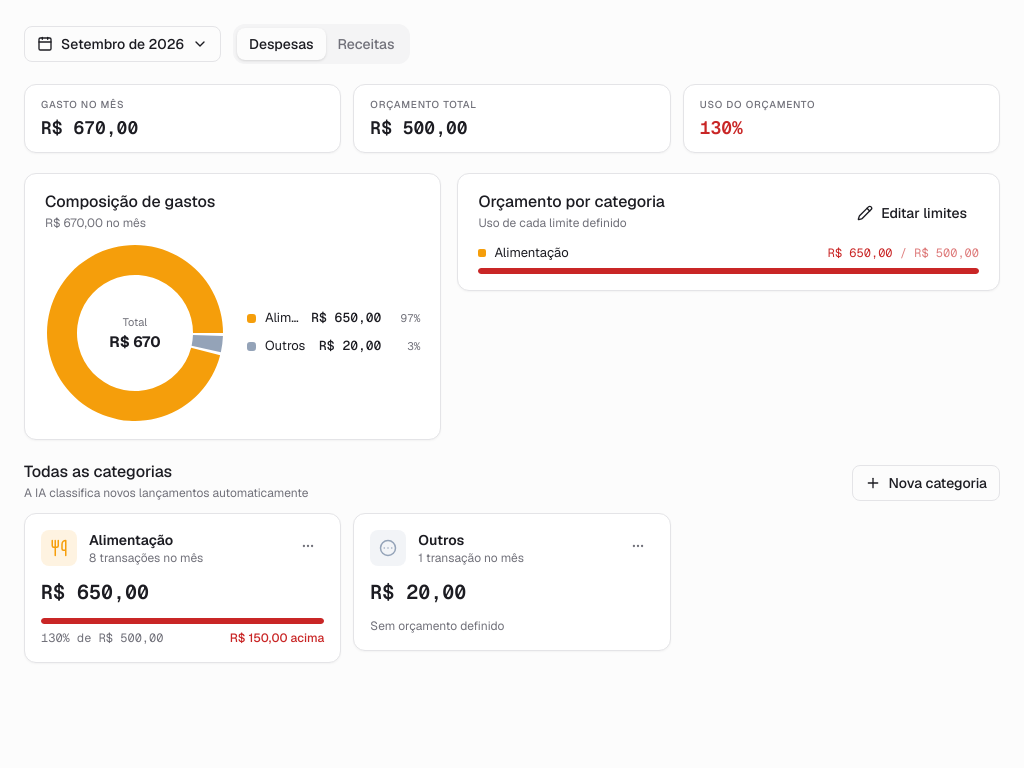
Scenario: CategoriesScreen › does not offer deleting the fallback category
Click the button named "Ações da categoria Outros": (638, 546) [622, 530, 654, 562]
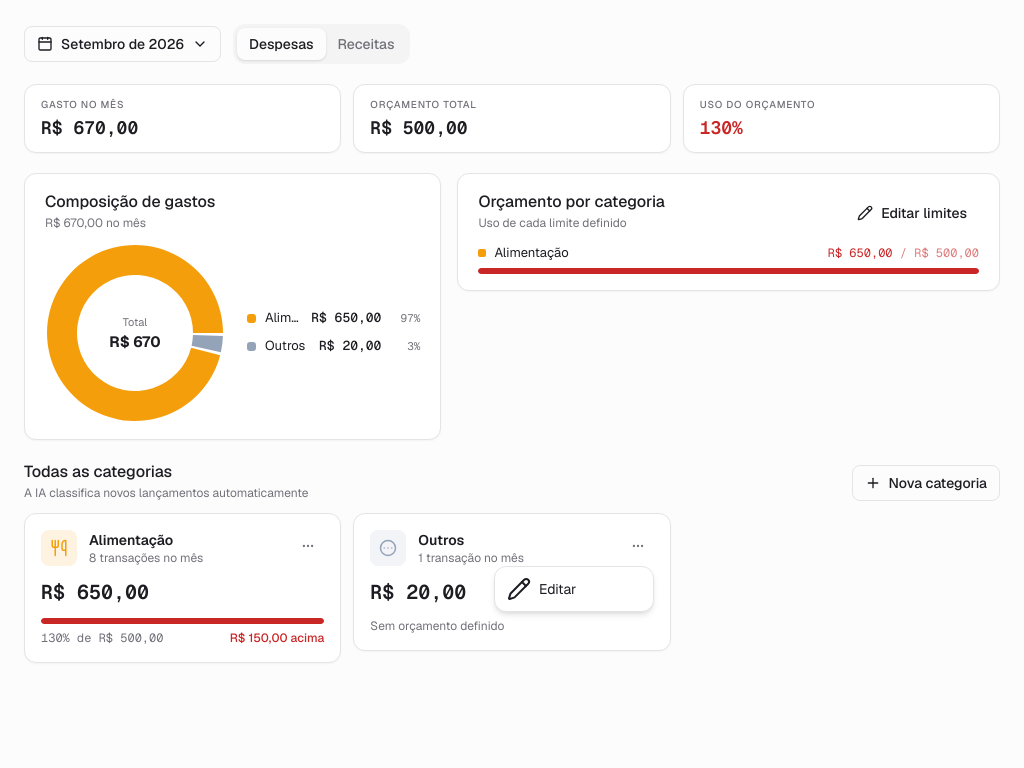
Expected: the menu item "Editar" is shown, [507, 577, 576, 601]
